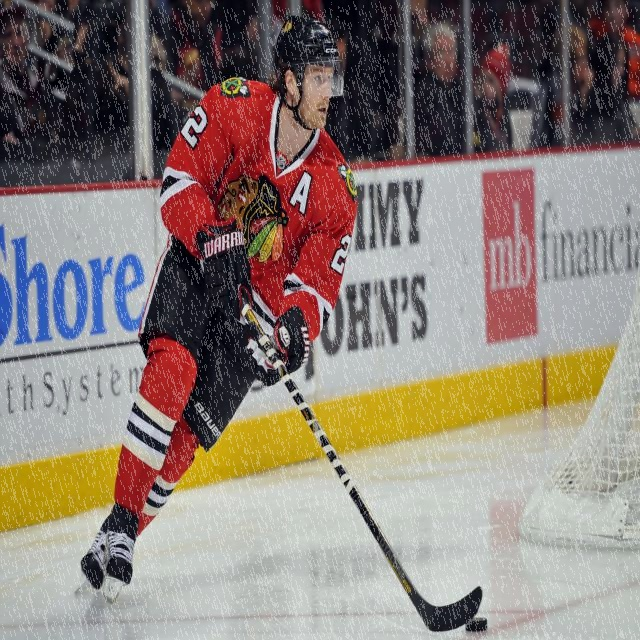pessoa: (72, 13, 359, 604), (37, 0, 411, 164), (0, 2, 64, 149), (531, 22, 596, 146), (412, 22, 467, 160), (586, 32, 640, 146), (588, 1, 640, 103), (472, 42, 512, 152)
